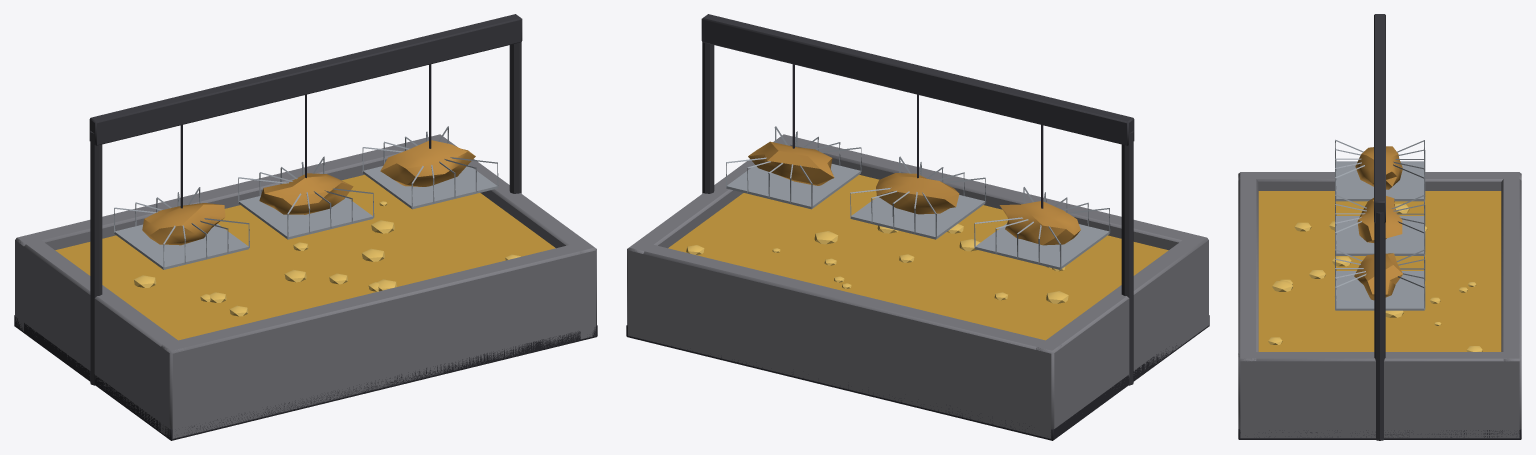
Rendered from fryer_vat.glb.
The picture shows the model from 3 angles, left to right: view 1: azimuth 30°, elevation 25°; view 2: azimuth 150°, elevation 25°; view 3: azimuth 270°, elevation 25°; orthographic projection. The views are drawn at different scales.
Visible parts, largest first — view 1: fryer_vat; view 2: fryer_vat; view 3: fryer_vat.
Boxes of the visible parts, x1,y1,x2,y2 form: fryer_vat: (14,14,597,440); fryer_vat: (626,14,1209,440); fryer_vat: (1238,14,1521,440).
Bounding box in the file's own units: 11.08 × 6.5 × 7.
